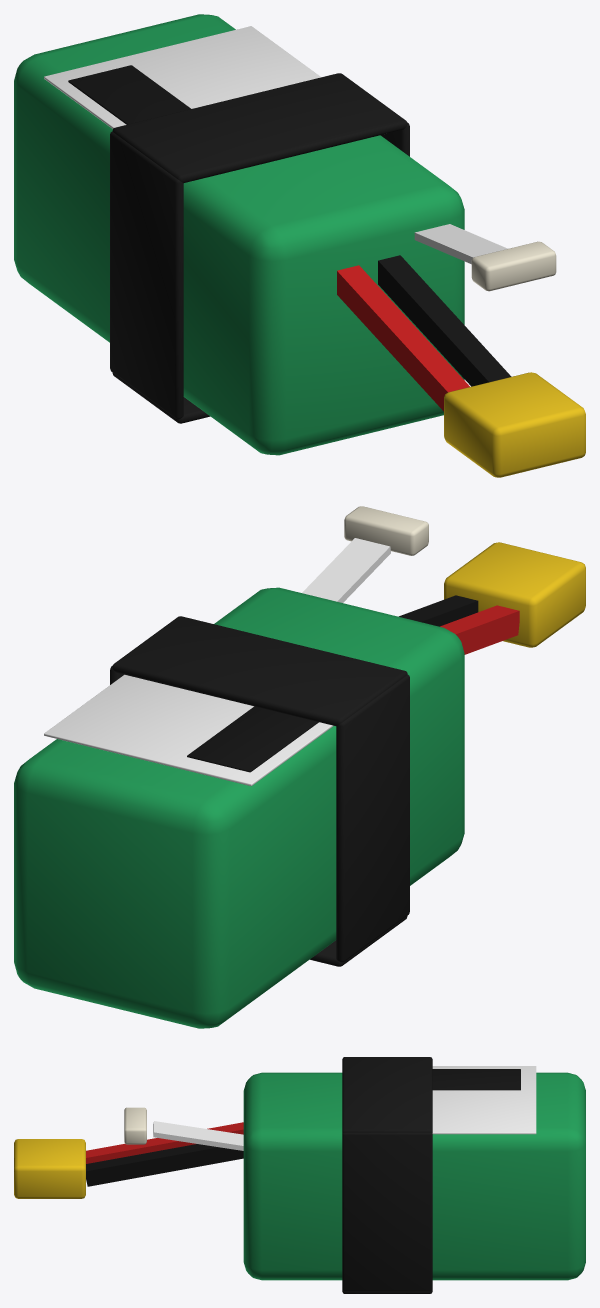
The model's file is batt_6s1100.glb.
The picture shows the model from 3 angles, top to bottom: view 1: azimuth 30°, elevation 25°; view 2: azimuth 150°, elevation 25°; view 3: azimuth 270°, elevation 25°; orthographic projection. The views are drawn at different scales.
Visible parts, largest first — view 1: batt_6s1100_M_Wrap_6s1100, batt_6s1100_M_Strap, batt_6s1100_M_Label, batt_6s1100_M_XT60, batt_6s1100_M_WireBlack, batt_6s1100_M_WireRed, batt_6s1100_M_Connector; view 2: batt_6s1100_M_Wrap_6s1100, batt_6s1100_M_Strap, batt_6s1100_M_Label, batt_6s1100_M_XT60, batt_6s1100_M_WireBlack, batt_6s1100_M_Connector, batt_6s1100_M_WireRed; view 3: batt_6s1100_M_Wrap_6s1100, batt_6s1100_M_Strap, batt_6s1100_M_Label, batt_6s1100_M_WireBlack, batt_6s1100_M_XT60, batt_6s1100_M_WireRed, batt_6s1100_M_Connector.
Boxes of the visible parts, x1,y1,x2,y2 form: batt_6s1100_M_Wrap_6s1100: (14, 14, 464, 455); batt_6s1100_M_Strap: (110, 73, 409, 423); batt_6s1100_M_Label: (44, 26, 507, 264); batt_6s1100_M_XT60: (444, 372, 585, 477); batt_6s1100_M_WireBlack: (68, 65, 511, 386); batt_6s1100_M_WireRed: (337, 265, 469, 411); batt_6s1100_M_Connector: (471, 241, 556, 291); batt_6s1100_M_Wrap_6s1100: (14, 587, 464, 1028); batt_6s1100_M_Strap: (110, 616, 409, 966); batt_6s1100_M_Label: (44, 538, 390, 786); batt_6s1100_M_XT60: (444, 542, 585, 647); batt_6s1100_M_WireBlack: (187, 595, 478, 772); batt_6s1100_M_Connector: (344, 506, 428, 555); batt_6s1100_M_WireRed: (440, 605, 519, 654); batt_6s1100_M_Wrap_6s1100: (243, 1072, 585, 1280); batt_6s1100_M_Strap: (342, 1057, 432, 1293); batt_6s1100_M_Label: (153, 1066, 536, 1150); batt_6s1100_M_WireBlack: (86, 1069, 520, 1186); batt_6s1100_M_XT60: (14, 1139, 85, 1198); batt_6s1100_M_WireRed: (86, 1122, 243, 1163); batt_6s1100_M_Connector: (124, 1107, 146, 1144).
Size of the model in its own units: 0.0398 by 0.0403 by 0.127.
